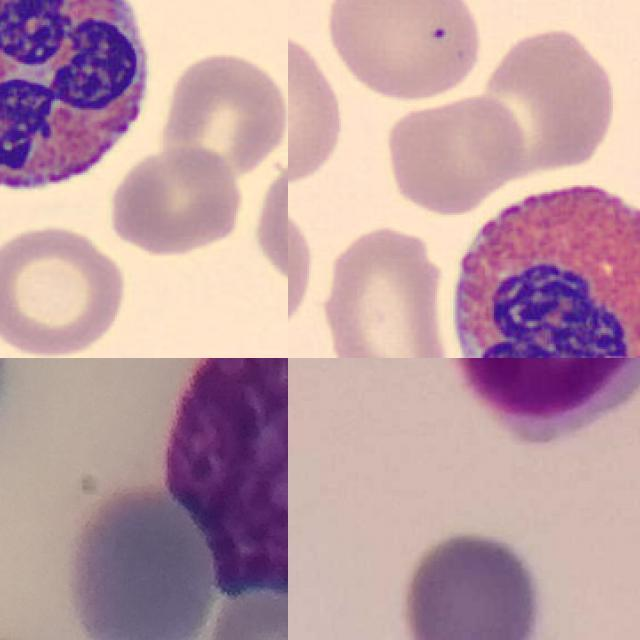Basophil: (163, 358, 288, 614)
Eosinophil: (435, 162, 640, 358), (0, 0, 161, 213)
Lymphocyte: (441, 358, 640, 451)
RBC: (318, 220, 453, 358), (380, 92, 528, 217), (157, 46, 288, 183), (0, 220, 129, 358), (103, 143, 247, 258), (323, 0, 485, 100), (288, 29, 348, 188), (246, 141, 288, 294), (288, 187, 319, 351)
